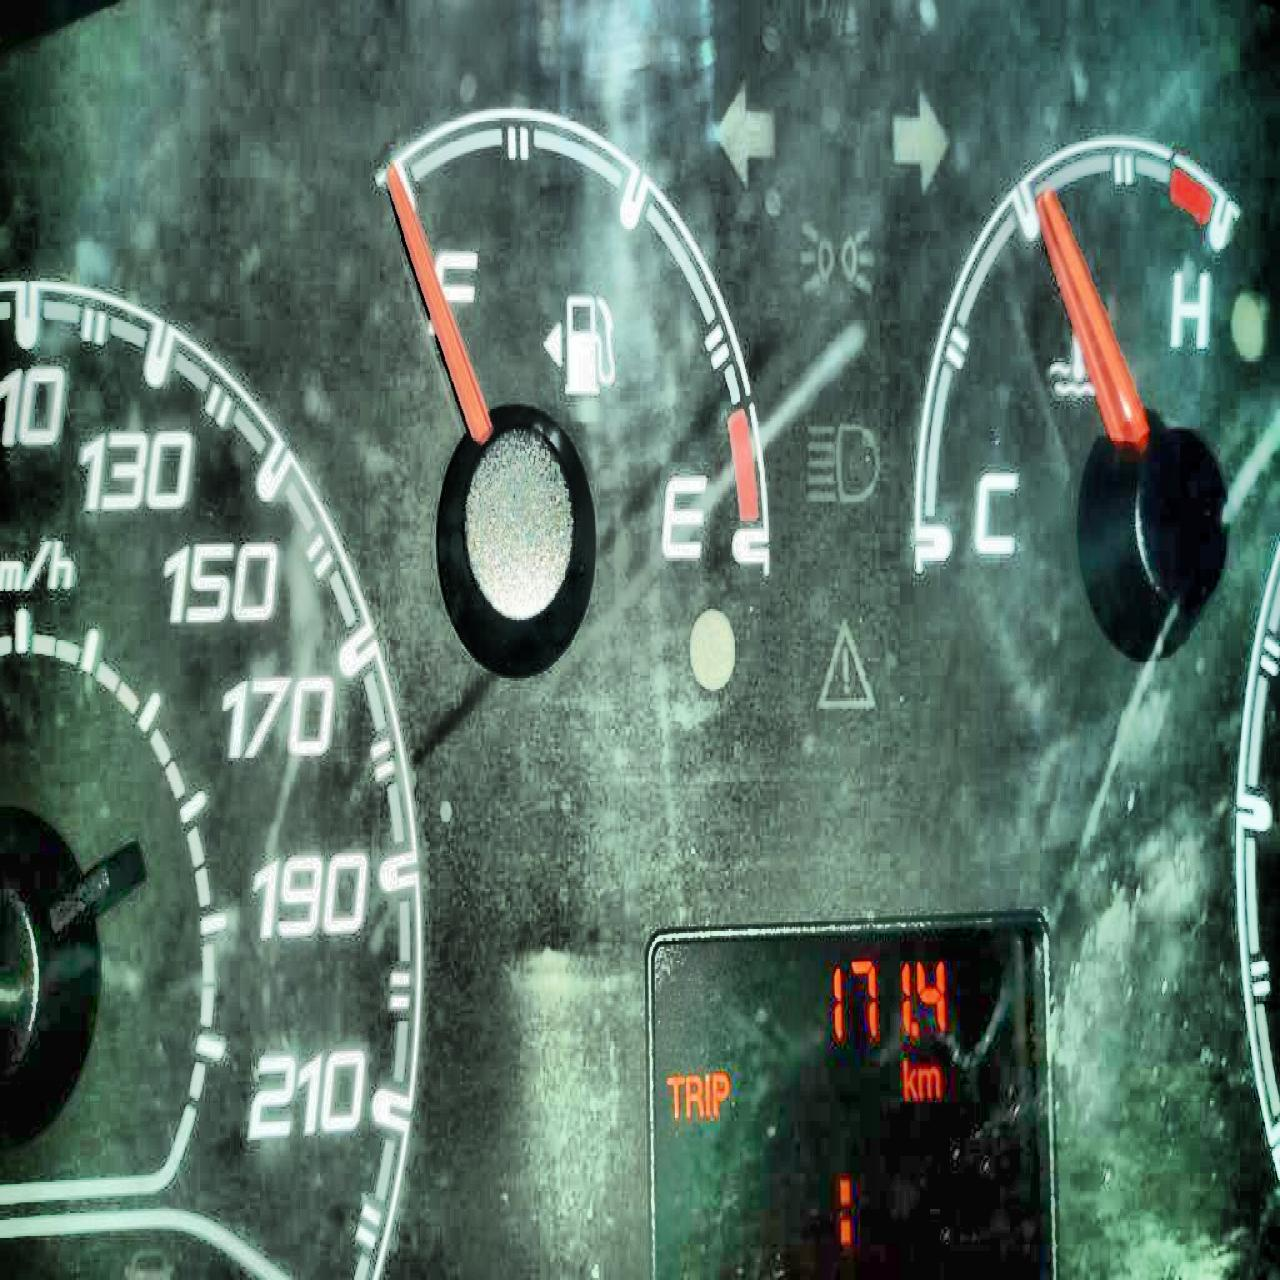-: (911, 1020, 918, 1036)
1: (831, 965, 840, 1037), (900, 960, 910, 1033)
4: (915, 958, 945, 1032)
7: (849, 955, 877, 1035)
X: (665, 1074, 685, 1119), (915, 1064, 940, 1099), (838, 1173, 850, 1245), (683, 1074, 702, 1118), (710, 1071, 728, 1118), (901, 1058, 917, 1098), (702, 1074, 712, 1116)
odometer: (642, 906, 1058, 1278)
